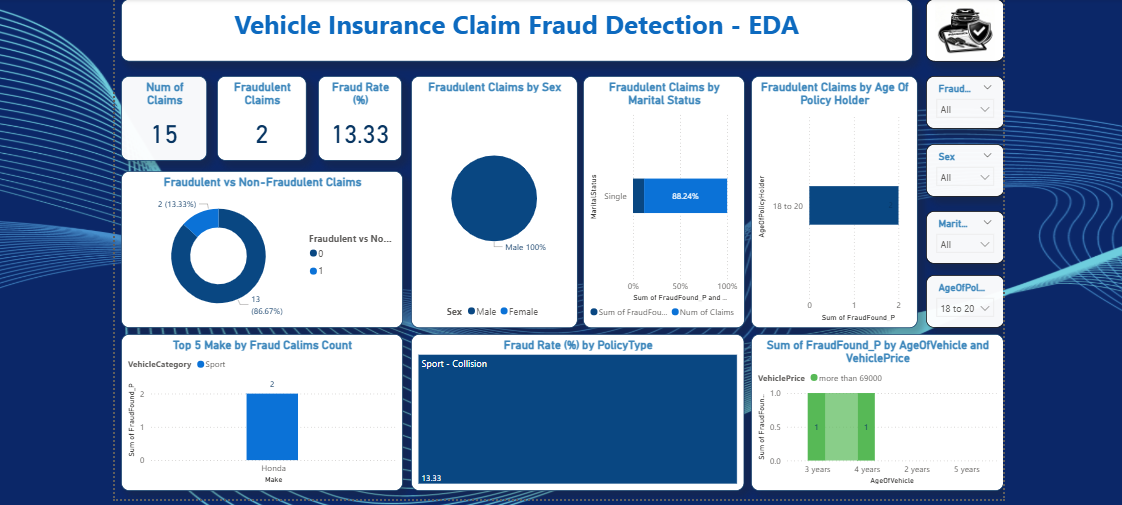

What the dashboard file says about the page in this screenshot:
{"tool":"powerbi","page":{"name":"Page 1","canvas":[1280,720],"ordinal":0},"visuals":[{"type":"textbox","box":[8.1,0,1139.5,89.5],"z":0},{"type":"image","box":[1167.4,0,112.8,89.5],"z":1000},{"type":"card","title":"Num of Claims","fields":{"Values":["vehicle_fraud.Num of Claims"]},"box":[8.1,110.5,124.4,122.1],"z":2000},{"type":"card","title":"Fraudulent Claims","fields":{"Values":["Sum(vehicle_fraud.FraudFound_P)"]},"box":[146.5,110.5,129.1,122.1],"z":3000},{"type":"card","title":"Fraud Rate (%)","fields":{"Values":["vehicle_fraud.Fraud Rate (%)"]},"box":[293,110.5,120.9,122.1],"z":4000},{"type":"donutChart","title":" Fraudulent vs Non-Fraudulent Claims ","fields":{"Category":["vehicle_fraud.FraudFound_P"],"Y":["vehicle_fraud.Num of Claims"]},"box":[8.1,247.7,405.8,225.6],"z":5000},{"type":"pieChart","title":" Fraudulent  Claims  by Sex","fields":{"Category":["vehicle_fraud.Sex"],"Y":["Sum(vehicle_fraud.FraudFound_P)"]},"box":[425.6,110.5,239.5,362.8],"z":6000},{"type":"hundredPercentStackedBarChart","title":" Fraudulent  Claims  by Marital Status","fields":{"Category":["vehicle_fraud.MaritalStatus"],"Y":["Sum(vehicle_fraud.FraudFound_P)","vehicle_fraud.Num of Claims"]},"box":[673.3,110.5,232.6,362.8],"z":7000},{"type":"clusteredBarChart","title":" Fraudulent  Claims  by Age Of Policy Holder","fields":{"Category":["vehicle_fraud.AgeOfPolicyHolder"],"Y":["Sum(vehicle_fraud.FraudFound_P)"]},"box":[916.3,110.5,239.5,362.8],"z":8000},{"type":"slicer","fields":{"Values":["vehicle_fraud.FraudFound_P"]},"box":[1167.4,110.5,112.8,75.6],"z":9000},{"type":"slicer","fields":{"Values":["vehicle_fraud.Sex"]},"box":[1167.4,209.3,112.8,75.6],"z":10000},{"type":"slicer","fields":{"Values":["vehicle_fraud.MaritalStatus"]},"box":[1167.4,305.8,112.8,75.6],"z":11000},{"type":"slicer","fields":{"Values":["vehicle_fraud.AgeOfPolicyHolder"]},"box":[1167.4,397.7,112.8,75.6],"z":12000},{"type":"clusteredColumnChart","title":" Top 5 Make by Fraud Calims Count","fields":{"Category":["vehicle_fraud.Make"],"Y":["Sum(vehicle_fraud.FraudFound_P)"],"Series":["vehicle_fraud.VehicleCategory"]},"box":[9.3,482.6,405.8,225.6],"z":13000},{"type":"treemap","fields":{"Group":["vehicle_fraud.PolicyType"],"Values":["vehicle_fraud.Fraud Rate (%)"]},"box":[426.2,482.5,480,226.2],"z":14000},{"type":"ribbonChart","fields":{"Category":["vehicle_fraud.AgeOfVehicle"],"Y":["Sum(vehicle_fraud.FraudFound_P)"],"Series":["vehicle_fraud.VehiclePrice"]},"box":[916.2,482.5,363.8,226.2],"z":14001}]}

Visuals, with their boxes in screenshot pixels (x1, y1, x2, y2):
textbox: select_region(120, 0, 909, 59)
image: select_region(922, 0, 1000, 59)
"Num of Claims" card: select_region(120, 74, 206, 158)
"Fraudulent Claims" card: select_region(215, 74, 305, 158)
"Fraud Rate (%)" card: select_region(317, 74, 401, 158)
" Fraudulent vs Non-Fraudulent Claims " donutChart: select_region(120, 169, 401, 325)
" Fraudulent  Claims  by Sex" pieChart: select_region(409, 74, 574, 325)
" Fraudulent  Claims  by Marital Status" hundredPercentStackedBarChart: select_region(580, 74, 741, 325)
" Fraudulent  Claims  by Age Of Policy Holder" clusteredBarChart: select_region(748, 74, 914, 325)
slicer - vehicle_fraud.FraudFound_P: select_region(922, 74, 1000, 126)
slicer - vehicle_fraud.Sex: select_region(922, 142, 1000, 194)
slicer - vehicle_fraud.MaritalStatus: select_region(922, 209, 1000, 261)
slicer - vehicle_fraud.AgeOfPolicyHolder: select_region(922, 272, 1000, 325)
" Top 5 Make by Fraud Calims Count" clusteredColumnChart: select_region(120, 331, 401, 487)
treemap - vehicle_fraud.PolicyType x vehicle_fraud.Fraud Rate (%): select_region(409, 331, 741, 488)
ribbonChart - vehicle_fraud.AgeOfVehicle x Sum(vehicle_fraud.FraudFound_P): select_region(748, 331, 1000, 488)
